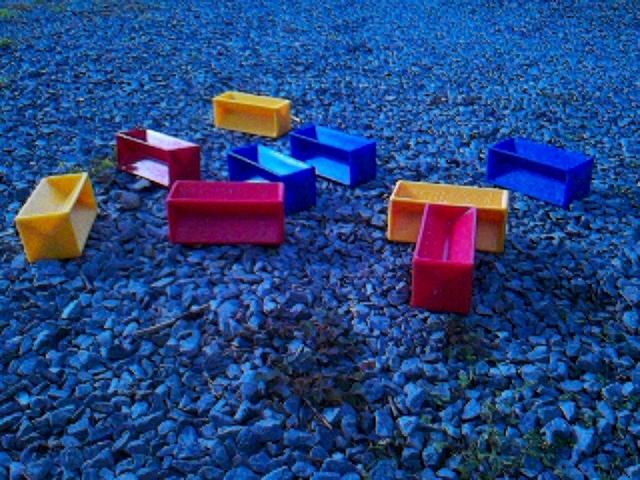blue: (486, 135, 595, 210), (226, 142, 317, 215), (289, 122, 378, 188)
red: (166, 179, 286, 247), (410, 202, 478, 315), (115, 127, 202, 188)
yellow: (386, 179, 510, 254), (15, 171, 99, 263), (212, 90, 292, 139)
